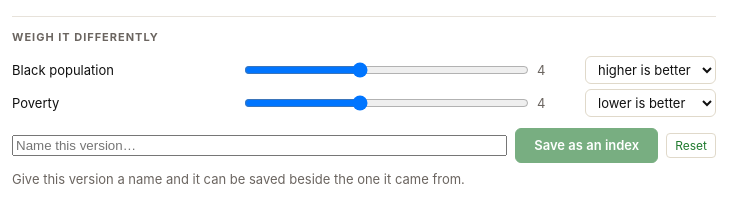
Test: why it will not save yet (P9-6a) › names the layer count first, because a name cannot rescue an index of one
Type "Housing-weighted" into the field with test id "weight-name".
click(260, 146); type("Housing-weighted")  # box [12,135,507,156]
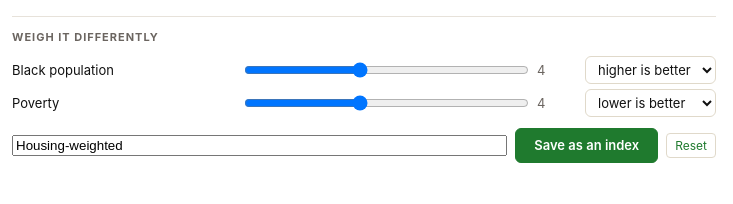
Set the slider named "Weight for Black population" to "0" at (252, 70), box [244,62,529,78]
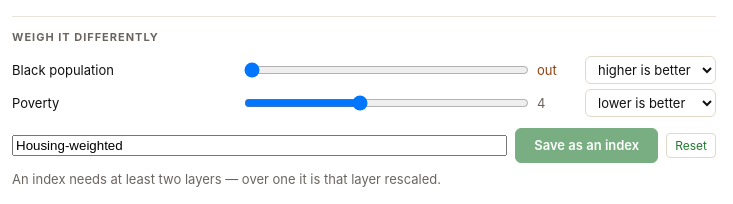
Expected: the message with test id "weight-save-why" shows "at least two layers", [12,171,441,187]
Expected: the button with test id "weight-save" is disabled, [515,128,658,163]
